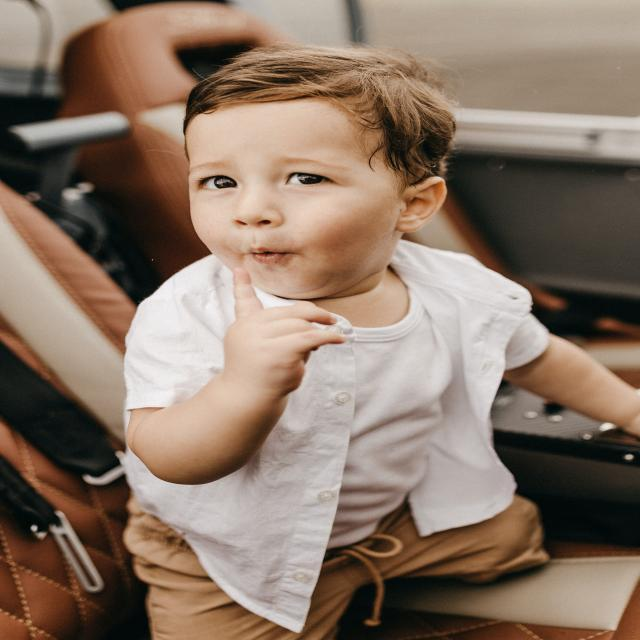non-dog: (110, 34, 640, 640)
